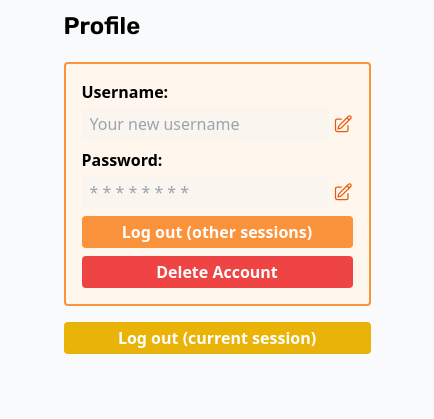
it: ProfileView › delete account › on failure › displays any errors
The width and height of the screenshot is (434, 419).
Click the button with test id "delete-account-button": (217,272) [82,256,352,288]
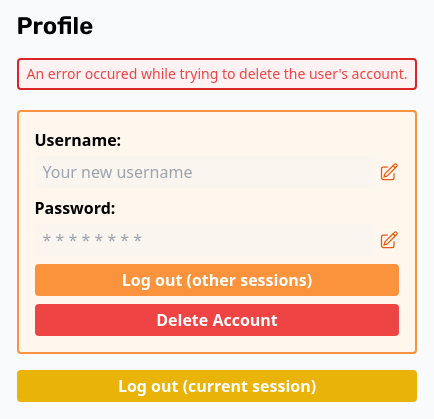
Expected: the list with test id "profile-view-errors" is shown, [16,58,418,90]
Expected: the list with test id "profile-view-errors" reads "An error occured while trying to delete the user's account.", [26,64,408,83]
